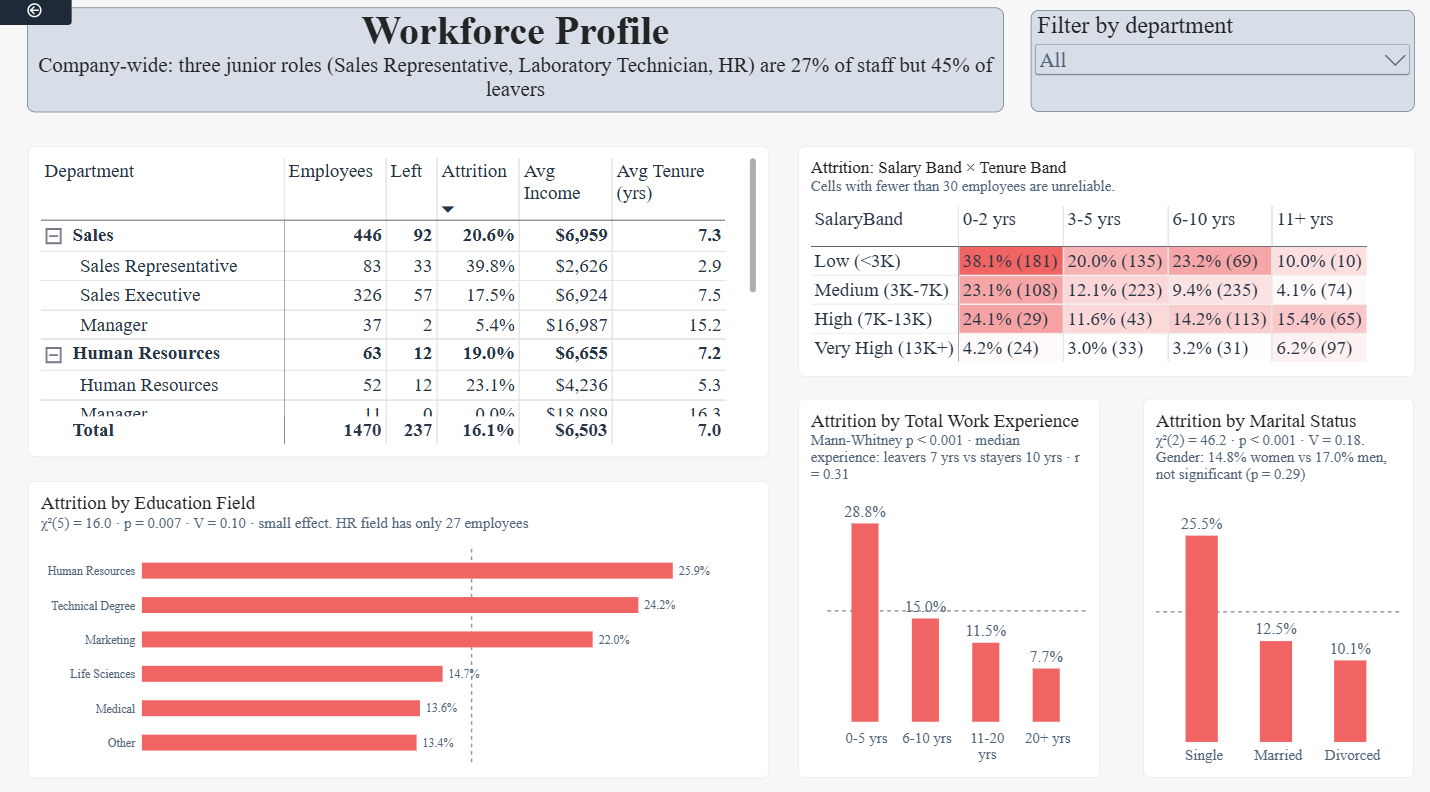

The page's visual inventory and layout, read from the dashboard file:
{"tool":"powerbi","page":{"name":"Workforce Profile","canvas":[1920,1080],"ordinal":3},"visuals":[{"type":"textbox","box":[40,17.5,1305,140],"z":0},{"type":"actionButton","box":[0,0,100,40],"z":1000},{"type":"slicer","fields":{"Values":["DimDepartment.Department"]},"box":[1380.7,20.7,512.6,136.3],"z":2000},{"type":"pivotTable","fields":{"Rows":["EmployeeFact.Department","EmployeeFact.JobRole"],"Values":["EmployeeFact.Total Employees","EmployeeFact.Employees Left","EmployeeFact.Attrition Rate","EmployeeFact.Avg Monthly Income","EmployeeFact.Avg Years At Company"]},"box":[41.5,201.5,989.6,414.8],"z":3000},{"type":"pivotTable","title":"Attrition: Salary Band × Tenure Band","fields":{"Columns":["DimTenureBand.TenureBand"],"Rows":["DimSalaryBand.SalaryBand"],"Values":["EmployeeFact.Attrition Rate (n)"]},"box":[1069.6,201.5,823.7,308.1],"z":4000},{"type":"clusteredColumnChart","title":"Attrition by Total Work Experience","fields":{"Category":["EmployeeFact.Experience Band"],"Y":["EmployeeFact.Attrition Rate"]},"box":[1069.6,539.3,403,506.7],"z":5000},{"type":"clusteredColumnChart","title":"Attrition by Marital Status","fields":{"Category":["EmployeeFact.MaritalStatus"],"Y":["EmployeeFact.Attrition Rate"]},"box":[1531.9,539.3,361.5,506.7],"z":6000},{"type":"clusteredBarChart","title":"Attrition by Education Field","fields":{"Category":["EmployeeFact.EducationField"],"Y":["EmployeeFact.Attrition Rate"]},"box":[41.5,648.9,989.6,397],"z":7000}]}

Visuals, with their boxes in screenshot pixels (x1, y1, x2, y2), scaled from the page's 1920x1080 canvas onto the 1430x792 screenshot:
textbox: locate(30, 13, 1002, 115)
actionButton: locate(0, 0, 74, 29)
slicer - DimDepartment.Department: locate(1028, 15, 1410, 115)
pivotTable - EmployeeFact.Department x EmployeeFact.JobRole: locate(31, 148, 768, 452)
"Attrition: Salary Band × Tenure Band" pivotTable: locate(797, 148, 1410, 374)
"Attrition by Total Work Experience" clusteredColumnChart: locate(797, 395, 1097, 767)
"Attrition by Marital Status" clusteredColumnChart: locate(1141, 395, 1410, 767)
"Attrition by Education Field" clusteredBarChart: locate(31, 476, 768, 767)
